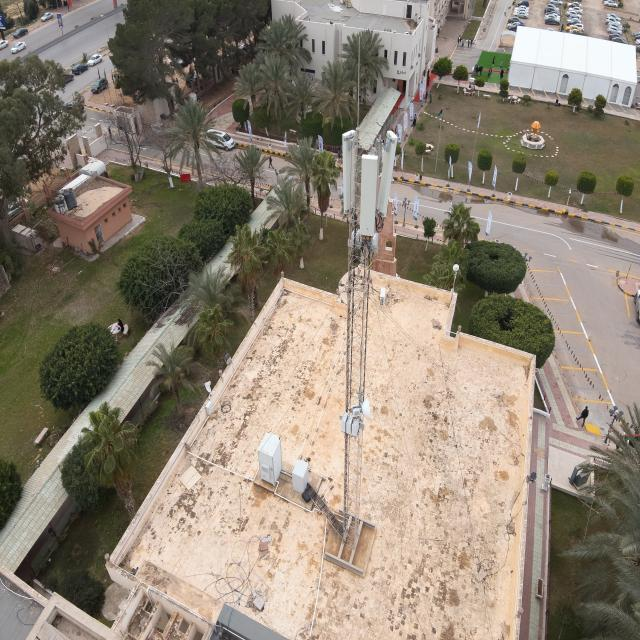antenna: (378, 131, 398, 216), (359, 154, 379, 238), (342, 129, 356, 215)
lighnig-rad: (358, 35, 360, 130)
microware-dish: (352, 397, 372, 421)
power-box: (340, 411, 360, 437)
radio-unit: (350, 226, 380, 251)
